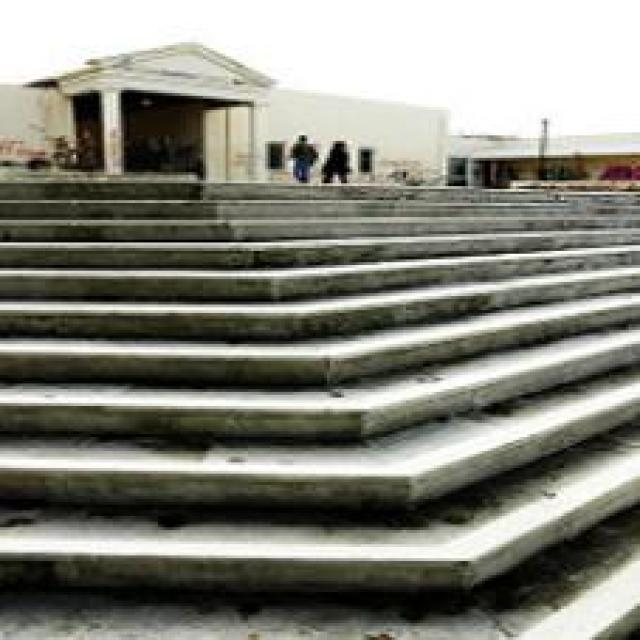stairs: (0, 172, 637, 637)
